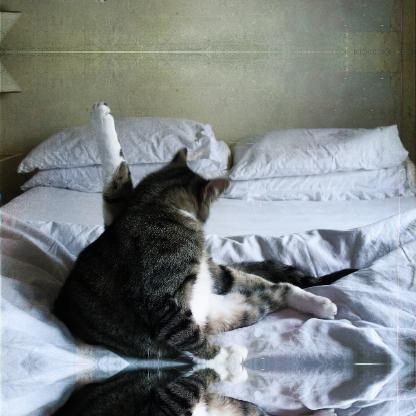Cat: (89, 102, 359, 336), (46, 145, 235, 363), (45, 365, 235, 415)
